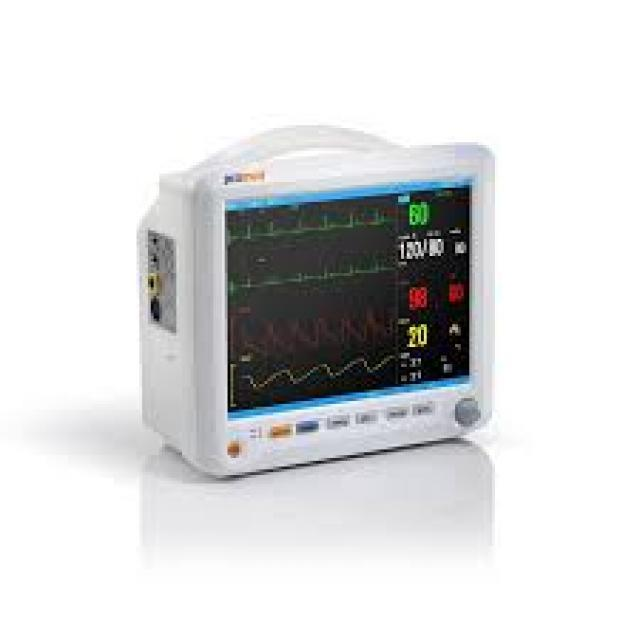cardiac_monitor: (203, 177, 509, 477)
